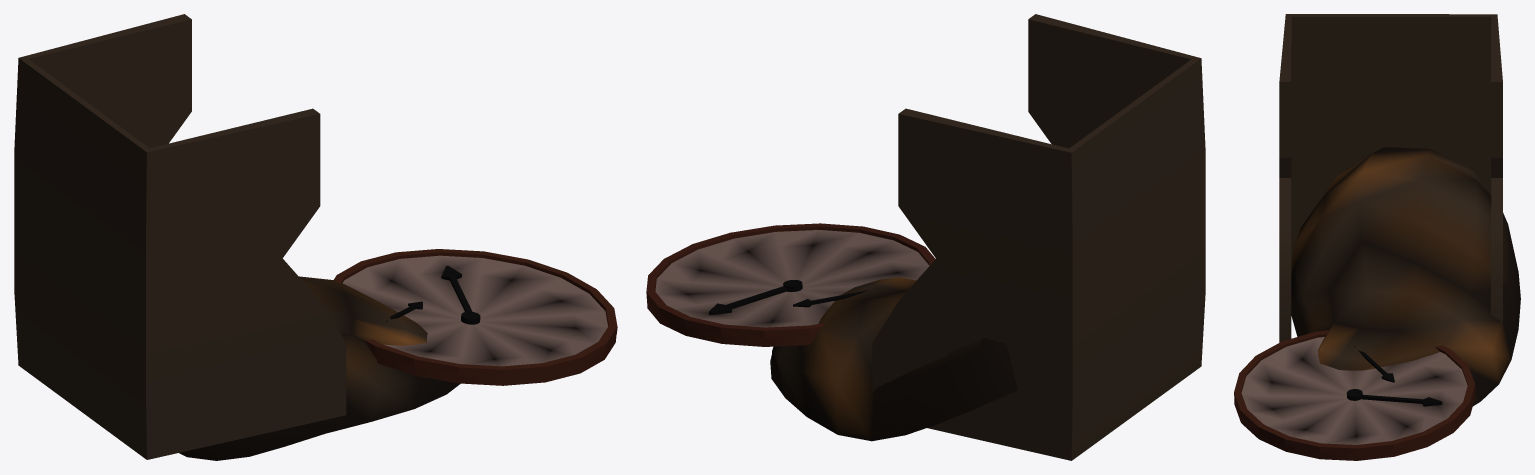
The model's file is BrokenClock.fbx.
The picture shows the model from 3 angles, left to right: view 1: azimuth 30°, elevation 25°; view 2: azimuth 150°, elevation 25°; view 3: azimuth 270°, elevation 25°; orthographic projection. The views are drawn at different scales.
Parts seen in each view (by area): view 1: Clock; view 2: Clock; view 3: Clock.
Boxes of the visible parts, x1,y1,x2,y2 form: Clock: (14, 14, 617, 460); Clock: (646, 14, 1205, 460); Clock: (1234, 14, 1520, 460).
Size of the model in its own units: 59.12 by 38.57 by 36.11.
